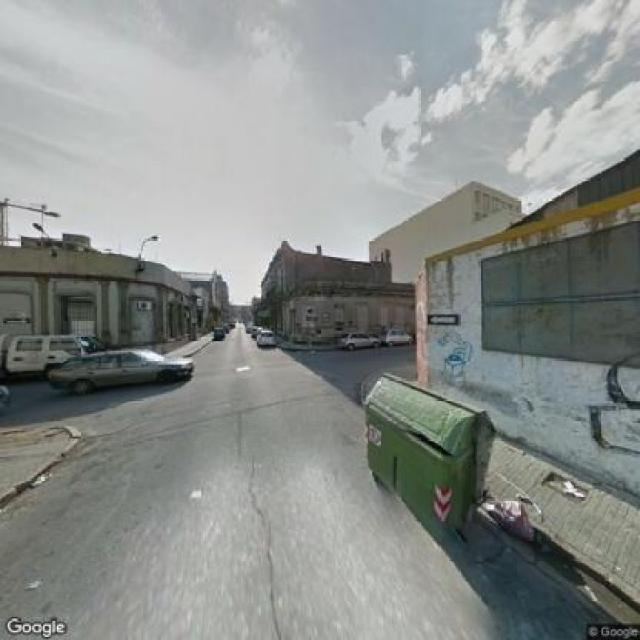garbage: (456, 486, 556, 550), (526, 457, 598, 514)
